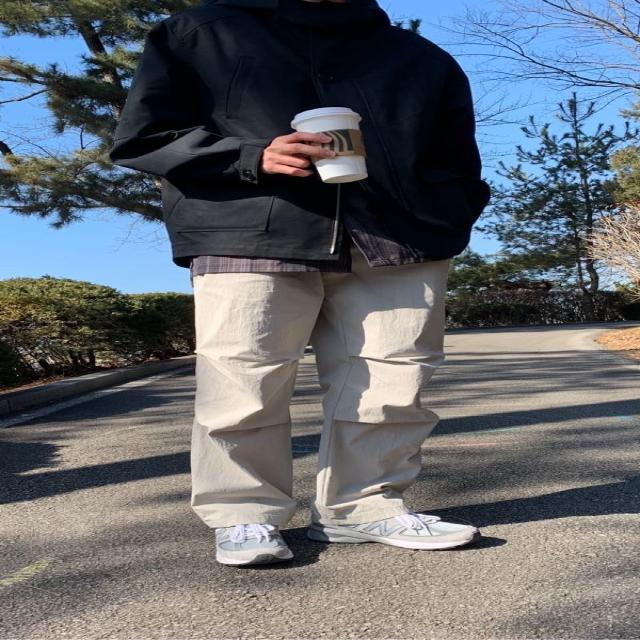cottonpants: (197, 256, 455, 537)
padding: (108, 0, 490, 267)
